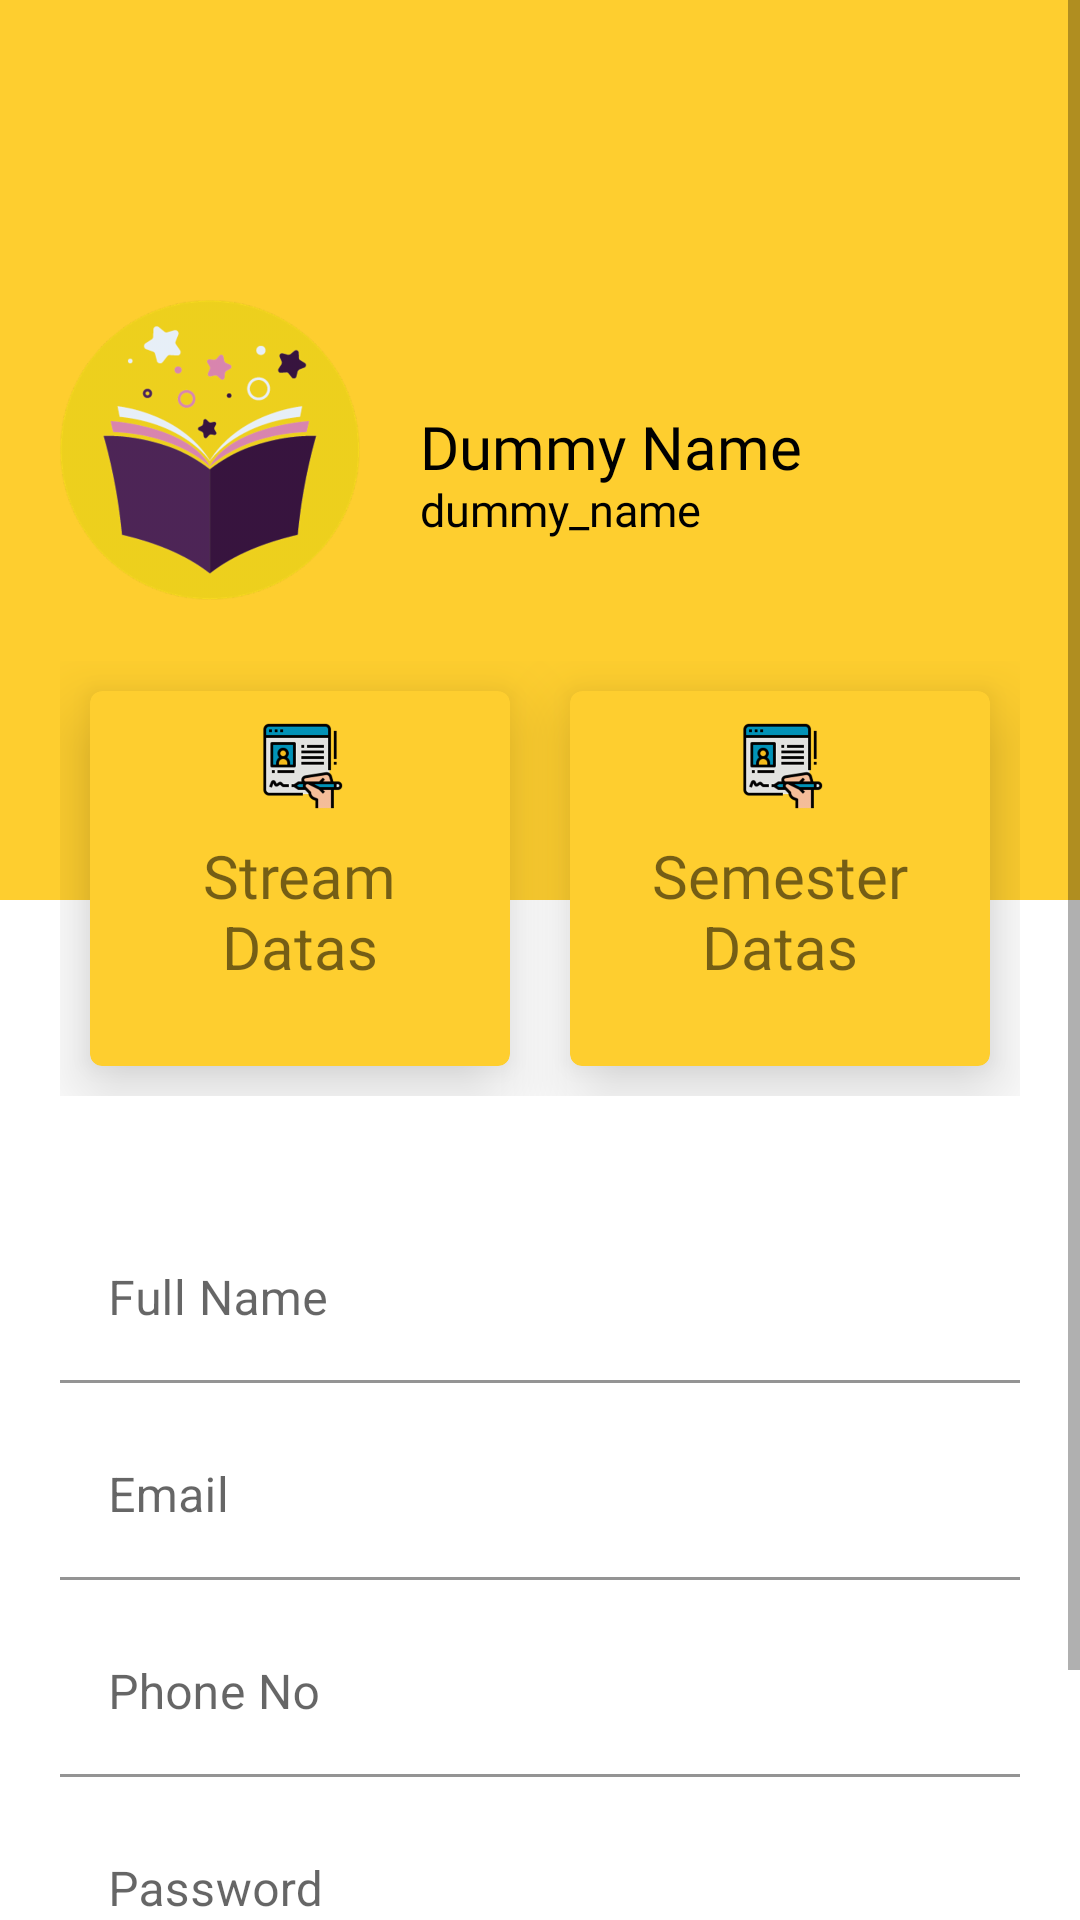

Icon bounding boxes for this 1080×1920 phone screenshot, format {"left": x1, "top": y1, "right": x2, "bottom": y2}:
register: {"left": 263, "top": 723, "right": 343, "bottom": 809}, {"left": 743, "top": 723, "right": 823, "bottom": 809}
